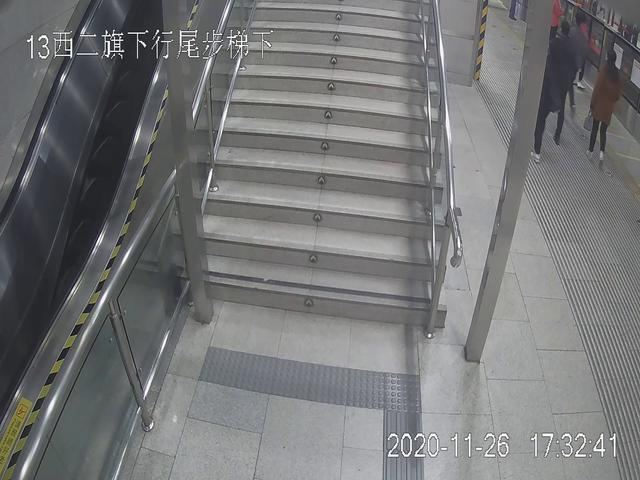person: (548, 19, 587, 148), (585, 51, 625, 163)
